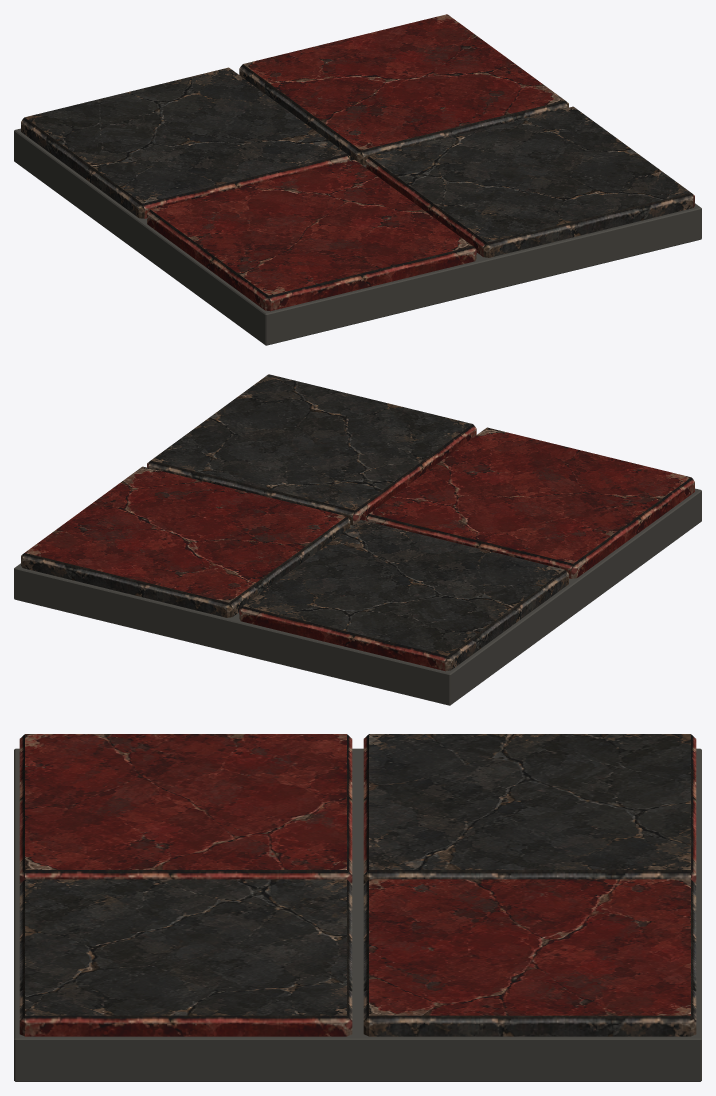
The model's file is floor_tile_a.glb.
The picture shows the model from 3 angles, top to bottom: view 1: azimuth 30°, elevation 25°; view 2: azimuth 150°, elevation 25°; view 3: azimuth 270°, elevation 25°; orthographic projection. The views are drawn at different scales.
Parts seen in each view (by area): view 1: floor_tile_a; view 2: floor_tile_a; view 3: floor_tile_a.
Part boxes in pixels (<box>): floor_tile_a: <box>14,14,701,345</box>; floor_tile_a: <box>14,374,701,705</box>; floor_tile_a: <box>14,734,701,1081</box>.
Size of the model in its own units: 1 by 0.1 by 1.
Materials: 3 (2 with a texture image).
